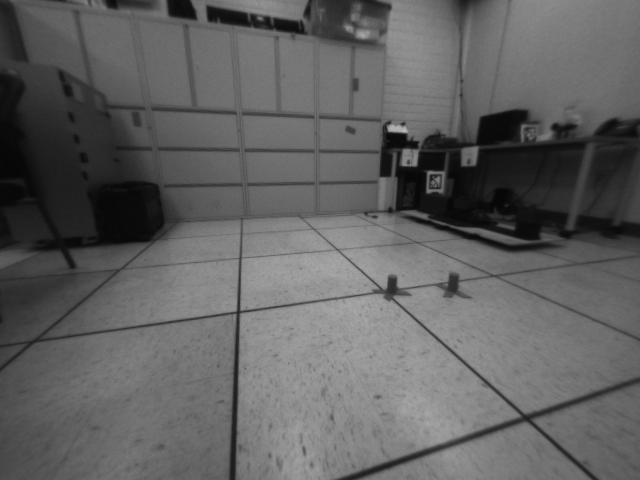X: (369, 273, 413, 302), (436, 270, 475, 298)
